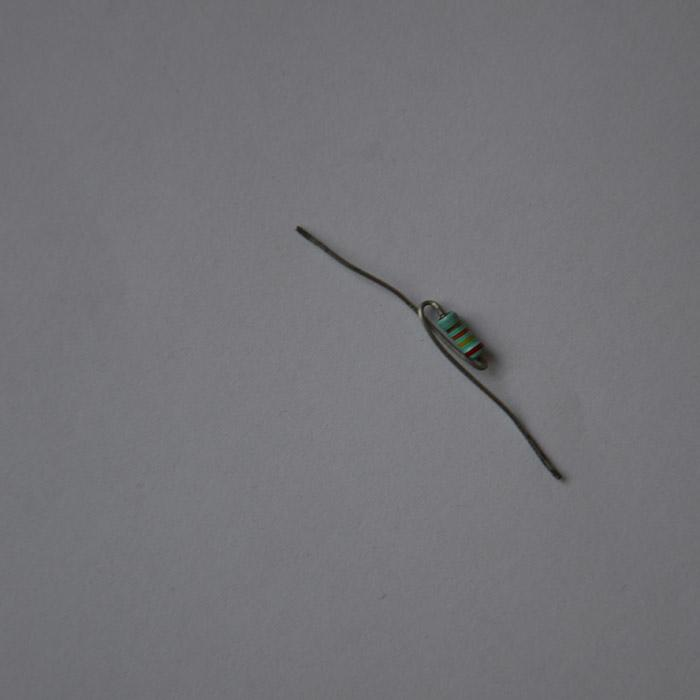resistor: (433, 309, 486, 361)
